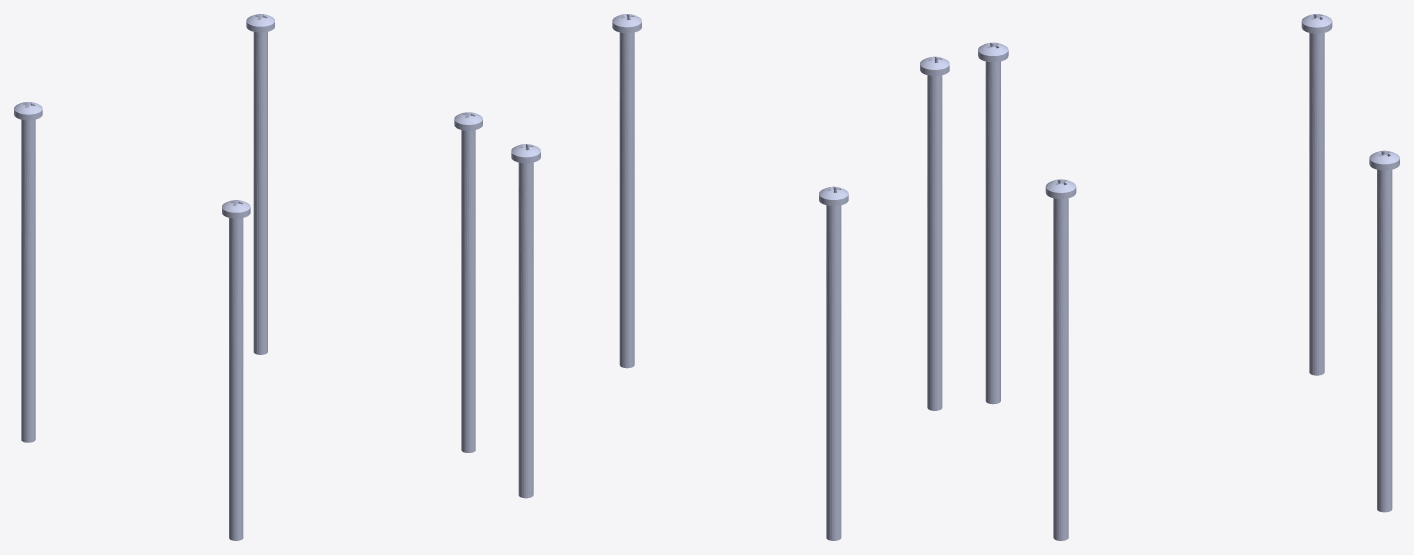
The model's file is zatana_terra_Z_parts_vis_7.dae.
The picture shows the model from 3 angles, left to right: view 1: azimuth 30°, elevation 25°; view 2: azimuth 150°, elevation 25°; view 3: azimuth 270°, elevation 25°; orthographic projection. The views are drawn at different scales.
Parts seen in each view (by area): view 1: Node_000002318374C7E0; view 2: Node_000002318374C7E0; view 3: Node_000002318374C7E0.
Part boxes in pixels (x1,y1,x2,y2): Node_000002318374C7E0: (14, 14, 482, 540); Node_000002318374C7E0: (511, 14, 949, 540); Node_000002318374C7E0: (978, 14, 1399, 540).
Size of the model in its own units: 0.0554 by 0.0516 by 0.0554.
